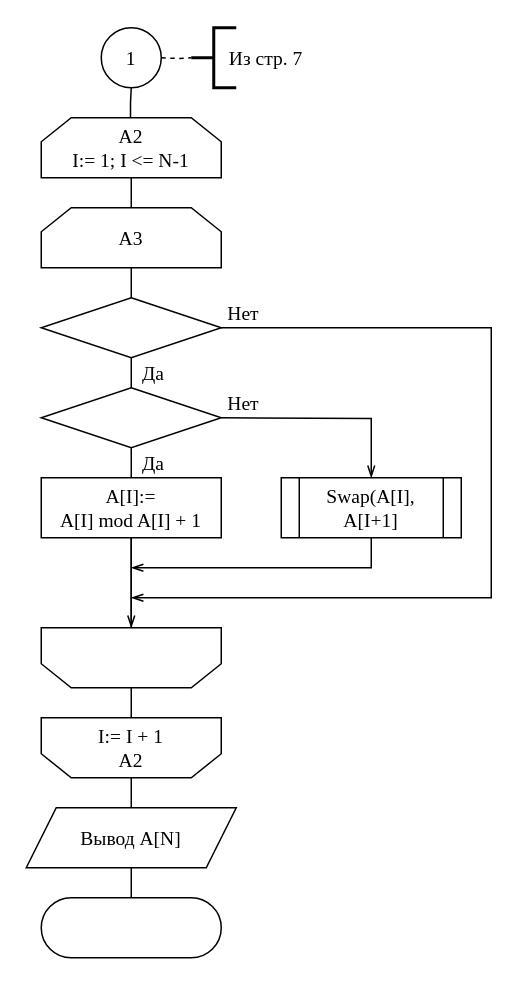
Image size: 530x984. Some labels were removed from this diagram. The shapes that lost their labels are listed below. From the top down, each one's centre as x and y in pixels, then its label:
At (x=130, y=327): "A[I] <> 0".
At (x=130, y=417): "A[I]<=A[I+1]".
At (x=130, y=657): "A[I] = 0 А3".
At (x=130, y=927): "Выход".
